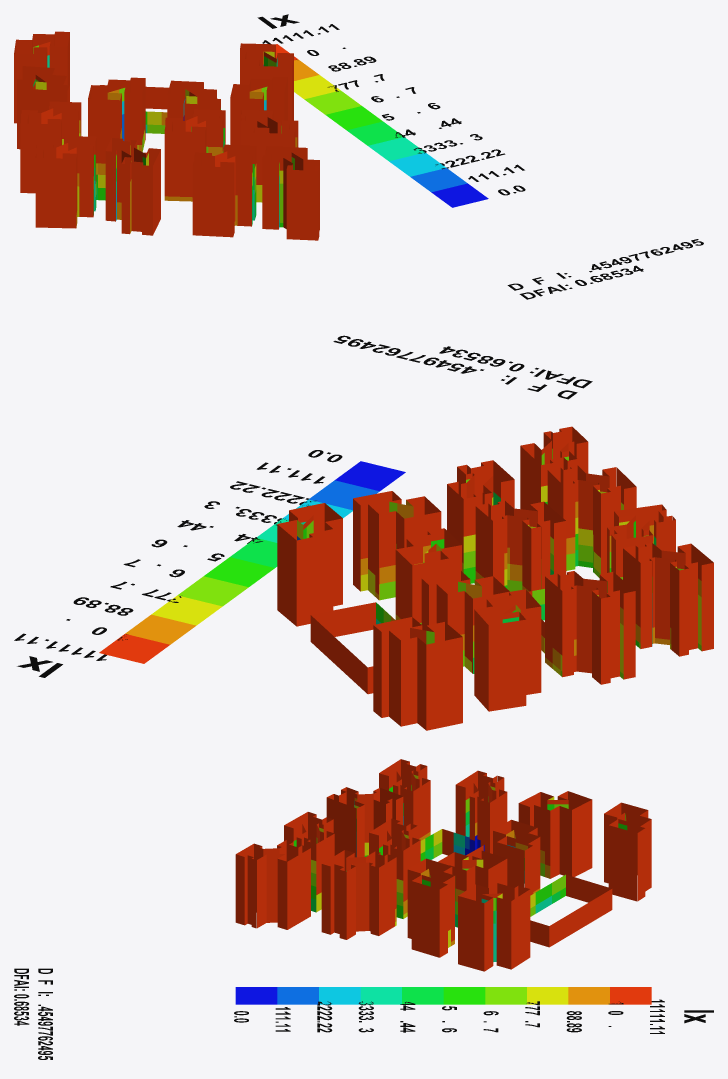
The model's file is punggol_luse101_dfavi.dae.
The picture shows the model from 3 angles, top to bottom: view 1: azimuth 30°, elevation 25°; view 2: azimuth 150°, elevation 25°; view 3: azimuth 270°, elevation 25°; orthographic projection. The views are drawn at different scales.
Visible parts, largest first — view 1: node0 (×14); view 2: node0 (×14); view 3: node0 (×17).
Boxes of the visible parts, x1,y1,x2,y2 form: node0 (×14): (14, 14, 703, 299); node0 (×14): (14, 335, 713, 730); node0 (×17): (14, 759, 713, 1059).
Size of the model in its own units: 357 by 445 by 48.
